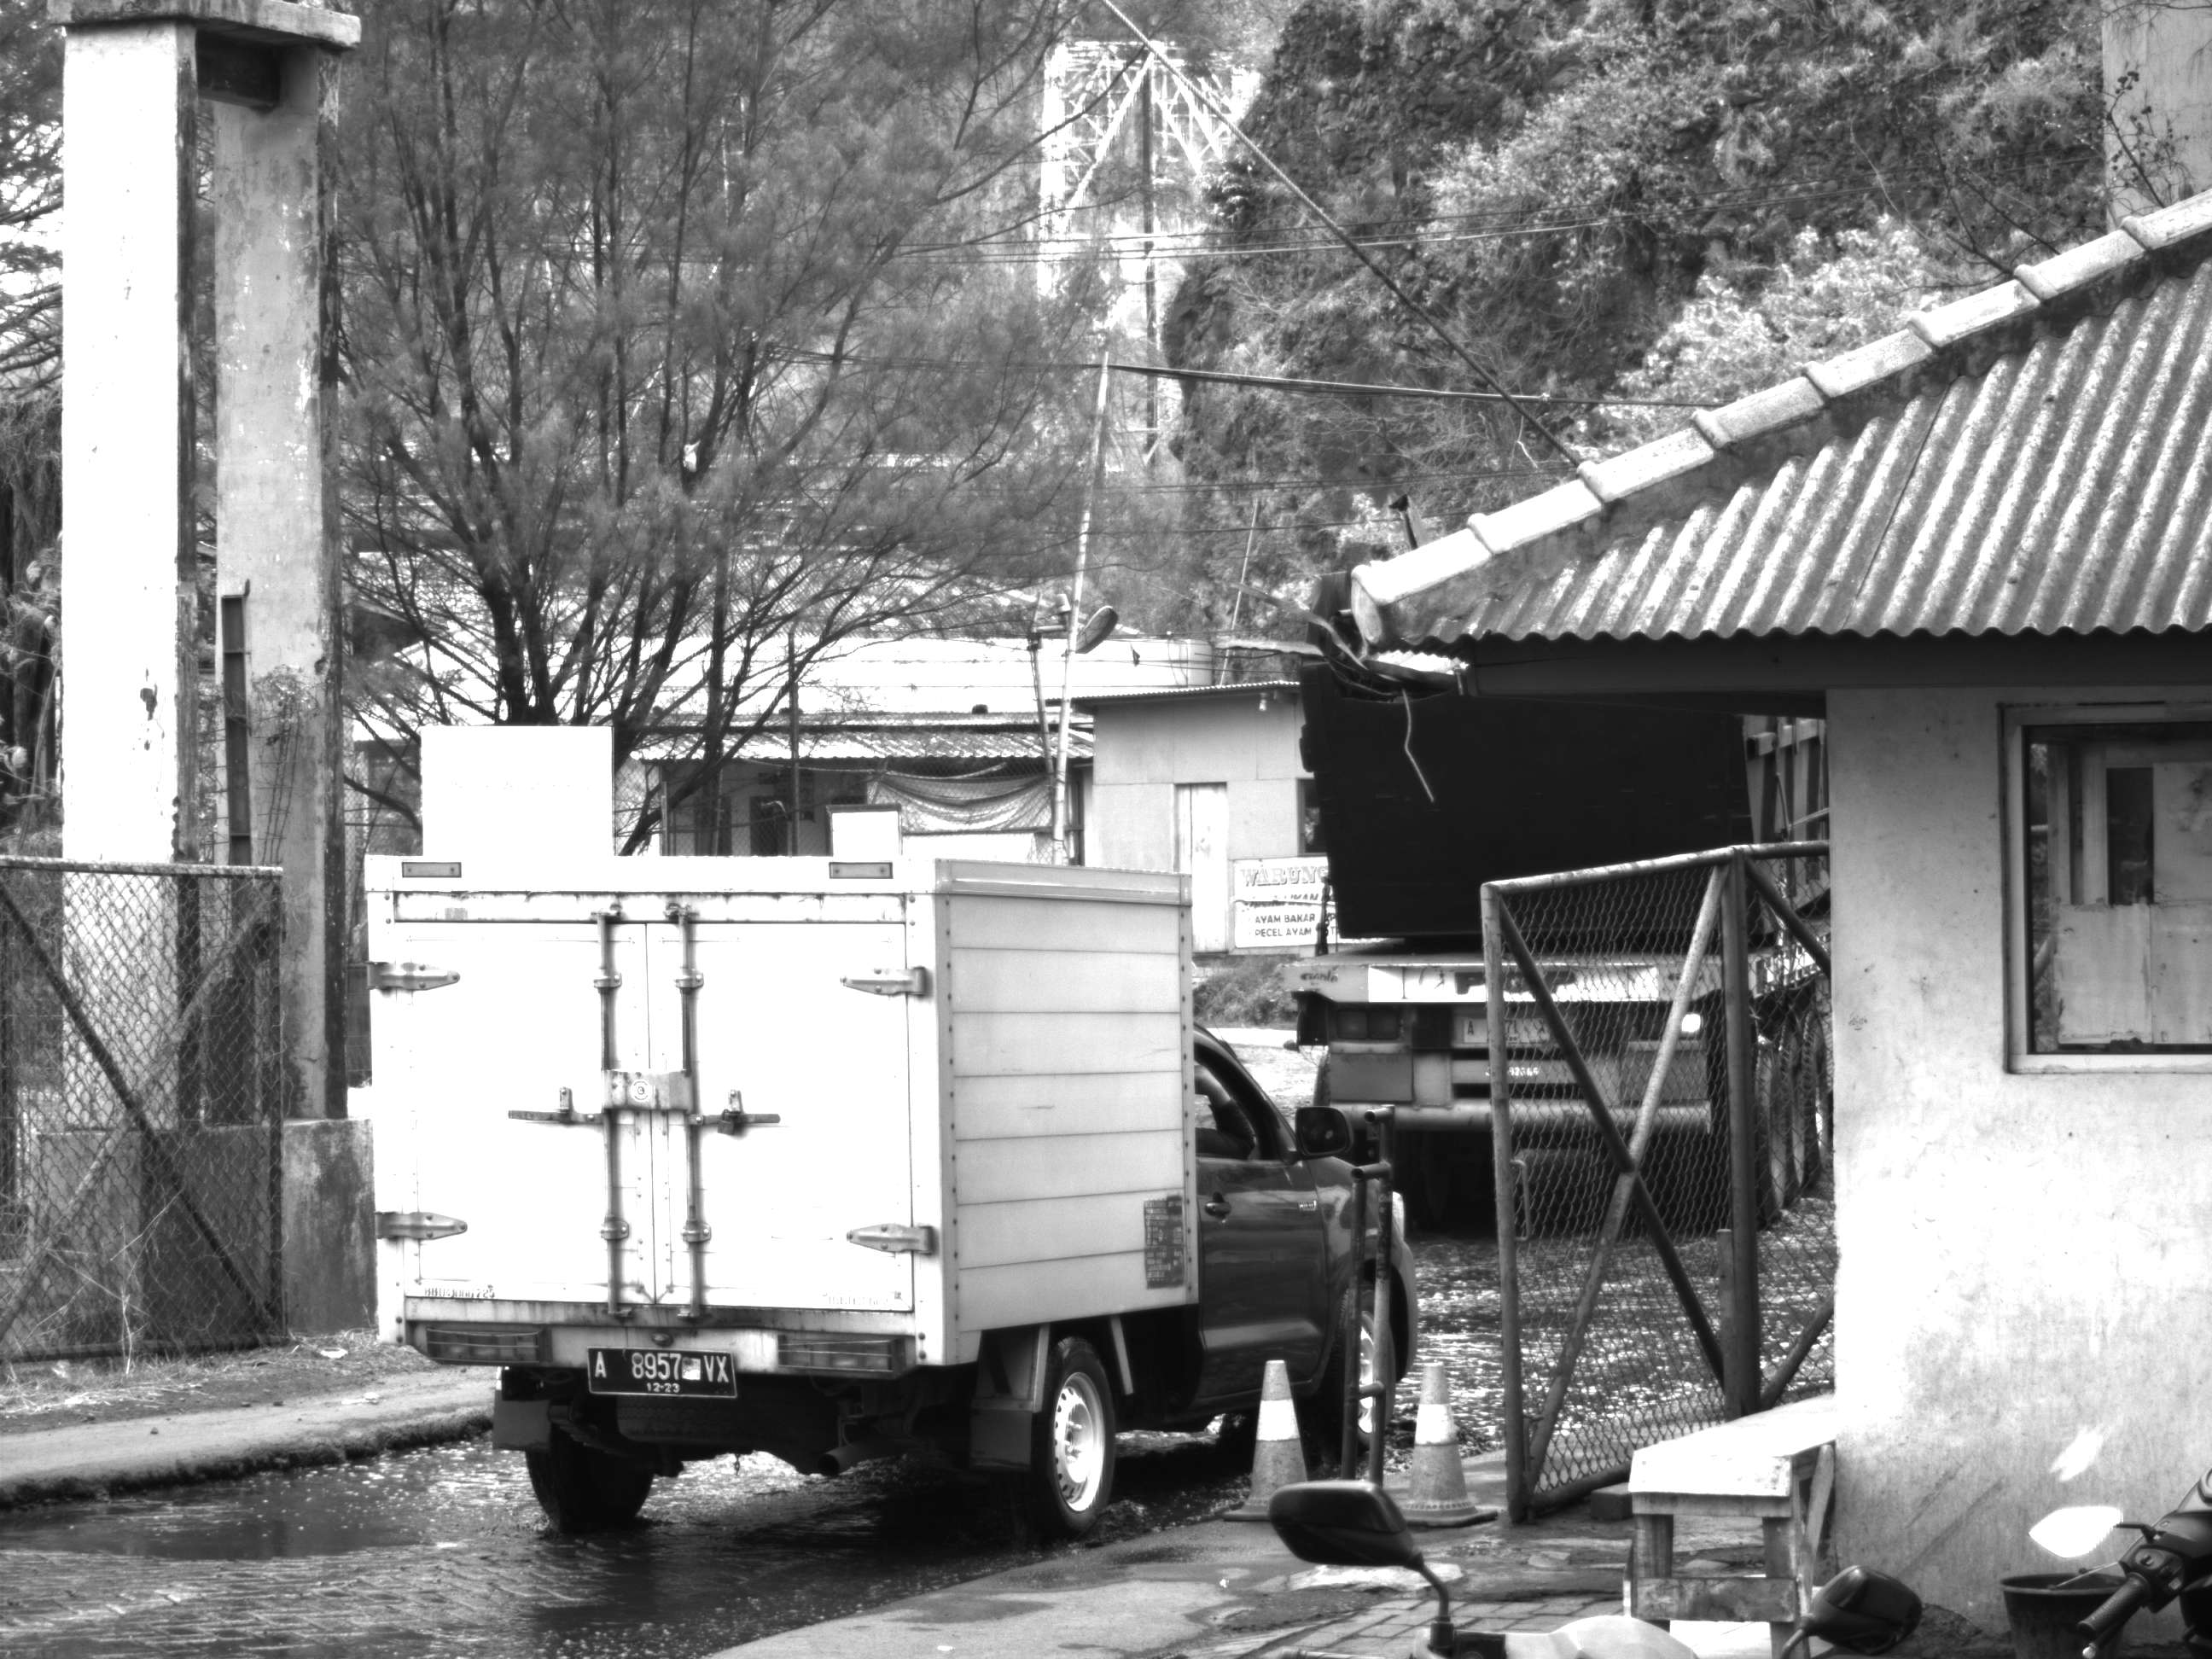day_truck_rear: (356, 853, 1120, 1567)
plate: (585, 1346, 740, 1400)
